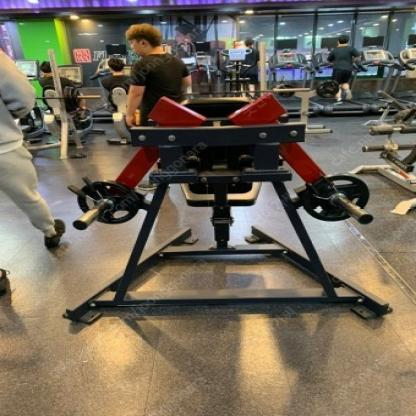lateral raises machine: (65, 95, 382, 331)
